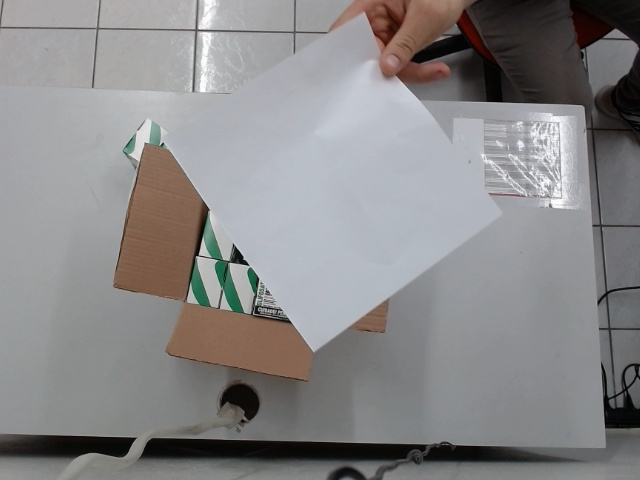divisor: (161, 12, 503, 351)
item: (116, 117, 170, 169), (220, 260, 263, 320), (187, 254, 229, 308), (196, 205, 236, 261), (252, 279, 294, 328)
